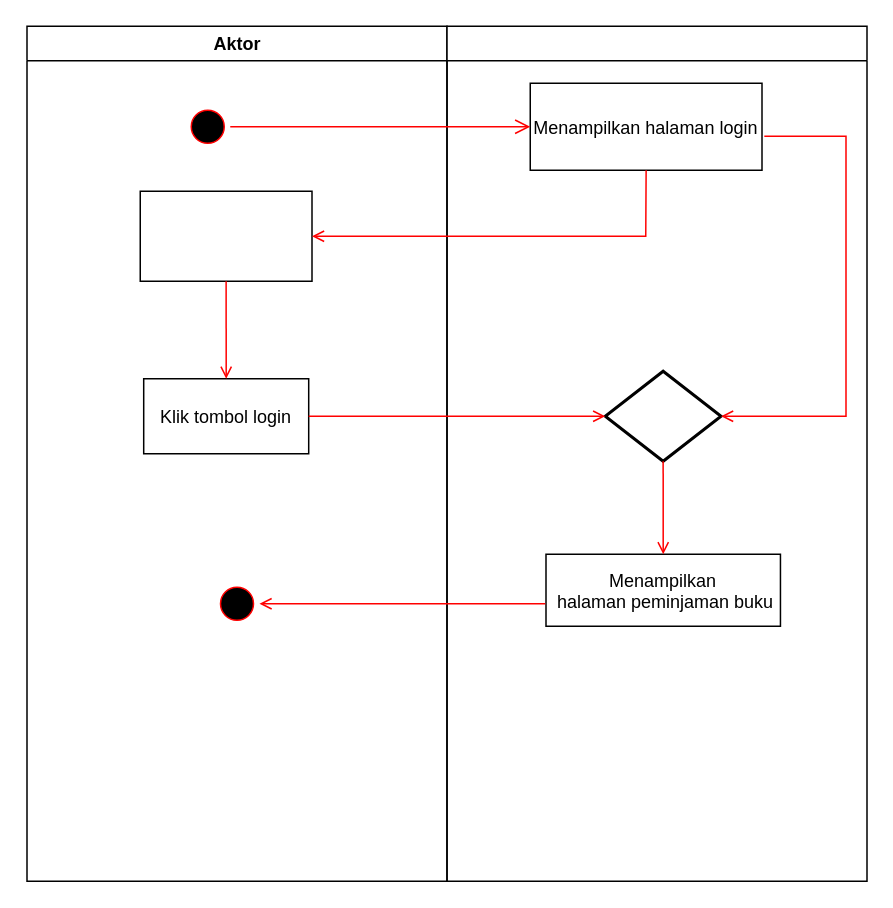
Some shapes in this 893 by 908 pixel diagram are drawn without their labels. Here are the shapes that lost their labels. From the top down, the box of each, then its label:
(139, 190, 312, 281): Input Username & Password Pada Form Login
(446, 25, 867, 881): Sistem
